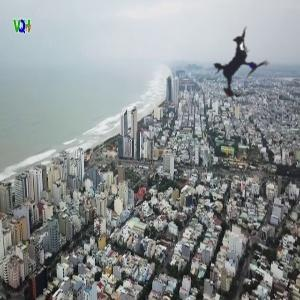drone: (187, 13, 295, 121)
